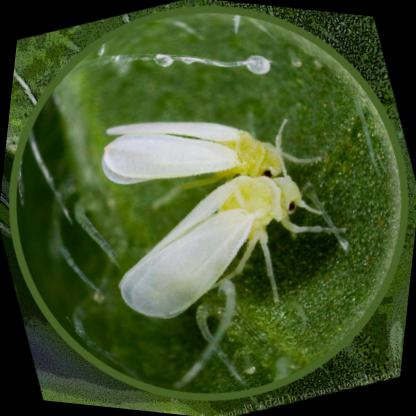whitefly: (116, 169, 304, 322), (103, 122, 284, 185)
